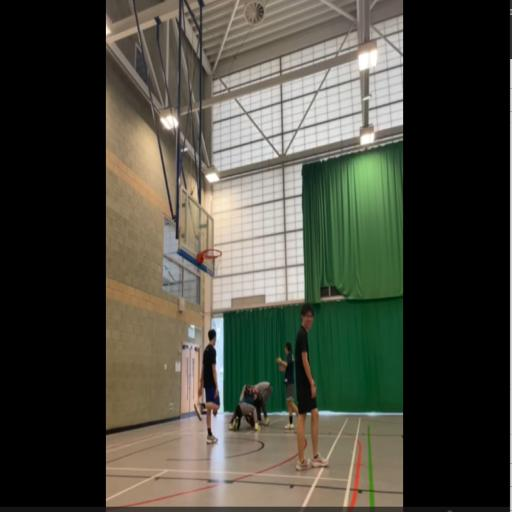hoops: (198, 244, 226, 282)
